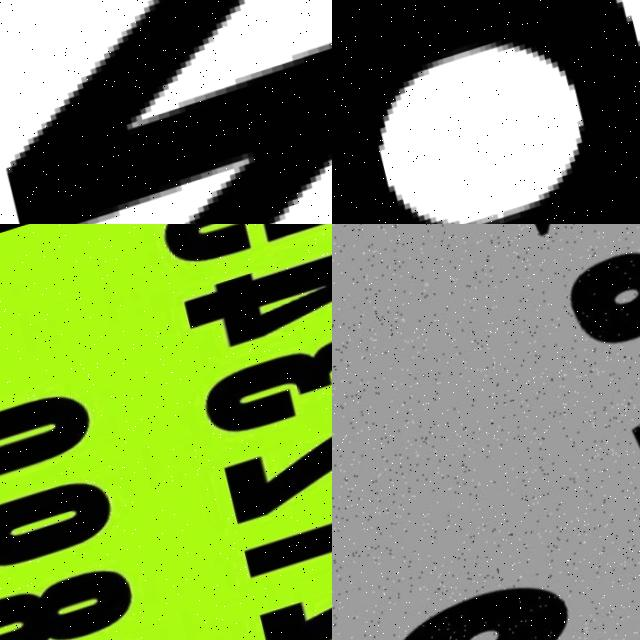0: (341, 528, 611, 640), (0, 371, 126, 512)
1: (237, 484, 332, 601)
2: (217, 401, 332, 531)
3: (197, 319, 332, 451)
4: (164, 229, 332, 369)
5: (149, 224, 332, 284)
7: (587, 296, 640, 511)
8: (539, 224, 640, 397), (0, 554, 160, 640)
9: (332, 0, 640, 224), (0, 458, 143, 603), (462, 224, 640, 283)
W: (0, 0, 332, 224)
